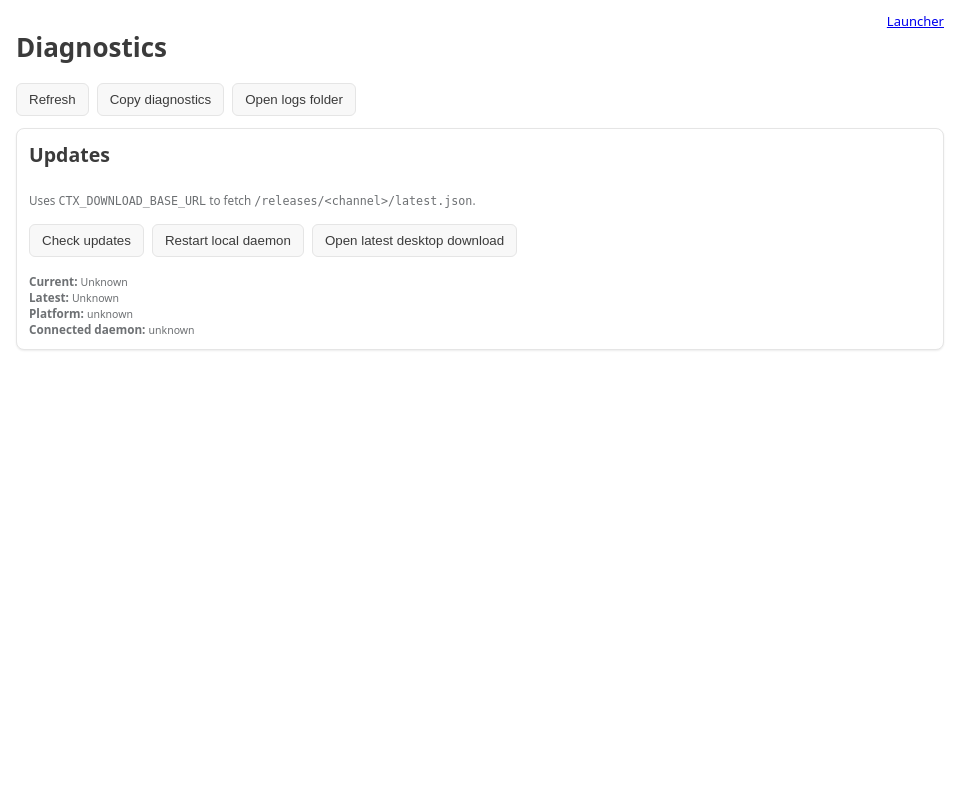
it: DiagnosticsPage updates › shows Linux AppImage controls when the platform is linux
Click the button "Check updates" at point(86, 240), box [29, 224, 144, 257]
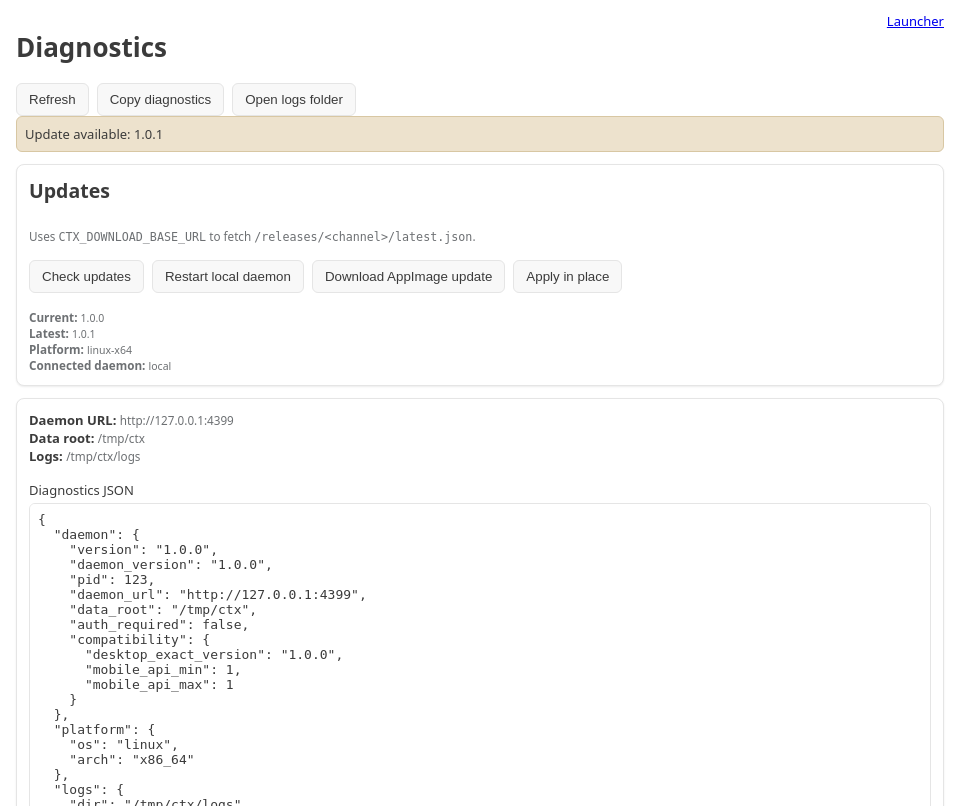
Expected: the button "Download AppImage update" is shown, [312, 260, 505, 293]
Expected: the button "Open latest desktop download" is gone
